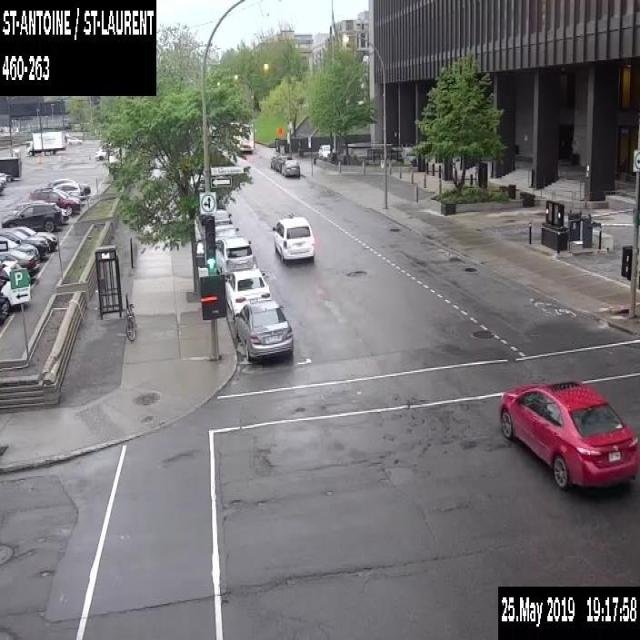bus: (224, 120, 254, 151)
construction: (276, 124, 284, 136)
vehicle: (499, 379, 639, 489), (235, 298, 293, 359), (225, 267, 271, 318), (272, 212, 315, 265), (2, 201, 61, 231), (0, 259, 30, 313), (214, 236, 255, 274), (0, 224, 57, 250), (0, 229, 48, 258), (29, 188, 80, 214), (12, 199, 68, 220), (0, 234, 39, 262), (26, 128, 65, 155), (0, 249, 38, 274), (48, 177, 90, 194), (0, 155, 21, 181), (52, 181, 82, 197), (214, 224, 239, 242), (281, 158, 300, 176), (214, 208, 232, 225), (275, 155, 292, 172), (270, 153, 283, 168), (94, 147, 108, 159), (318, 143, 330, 156), (66, 136, 82, 144), (0, 176, 6, 192)
